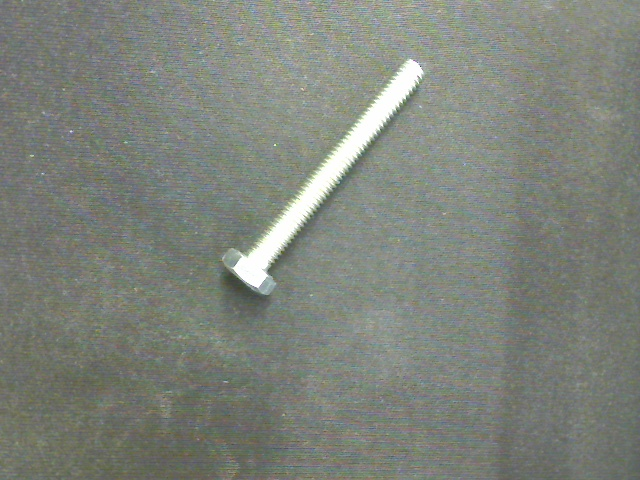Screw: (220, 58, 425, 298)
